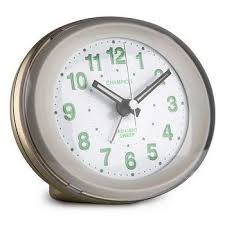alarm_clock: (9, 12, 214, 202), (13, 12, 214, 202), (13, 24, 214, 202)
